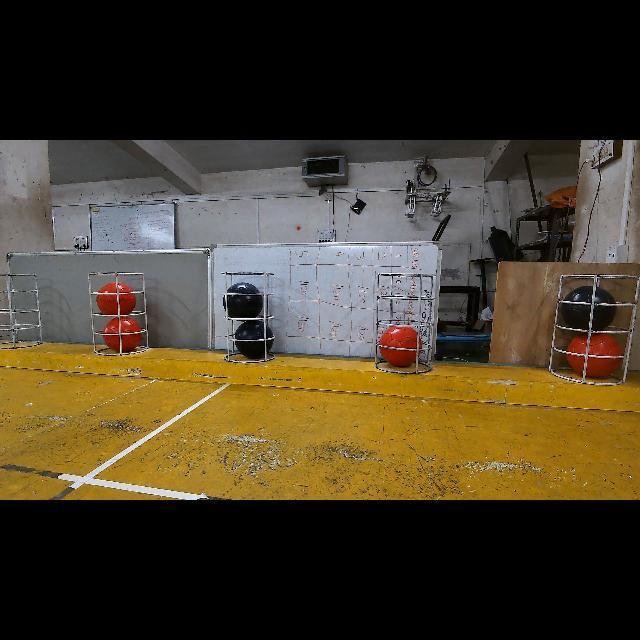P: (560, 286, 616, 330), (234, 320, 274, 360), (222, 282, 264, 319)
R: (565, 332, 622, 379), (380, 327, 419, 368), (102, 318, 142, 352), (95, 283, 135, 314)
S: (544, 271, 640, 389), (368, 266, 442, 376), (218, 266, 278, 368), (85, 270, 153, 358), (0, 274, 50, 352)
